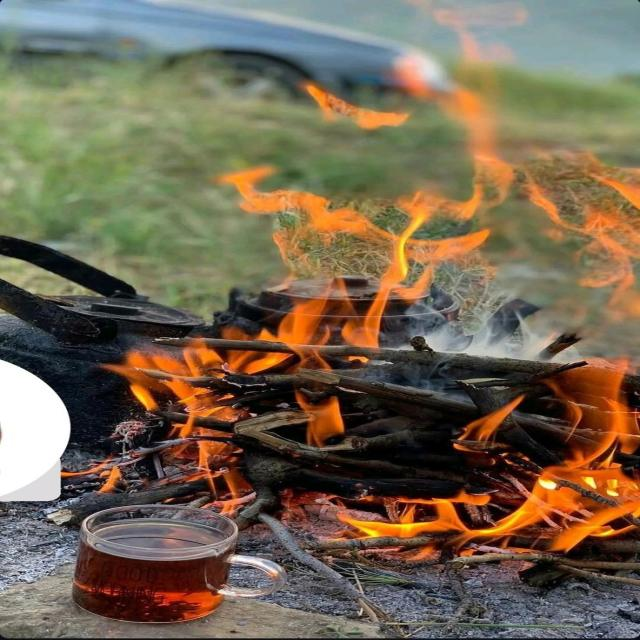fire: (94, 56, 640, 564)
